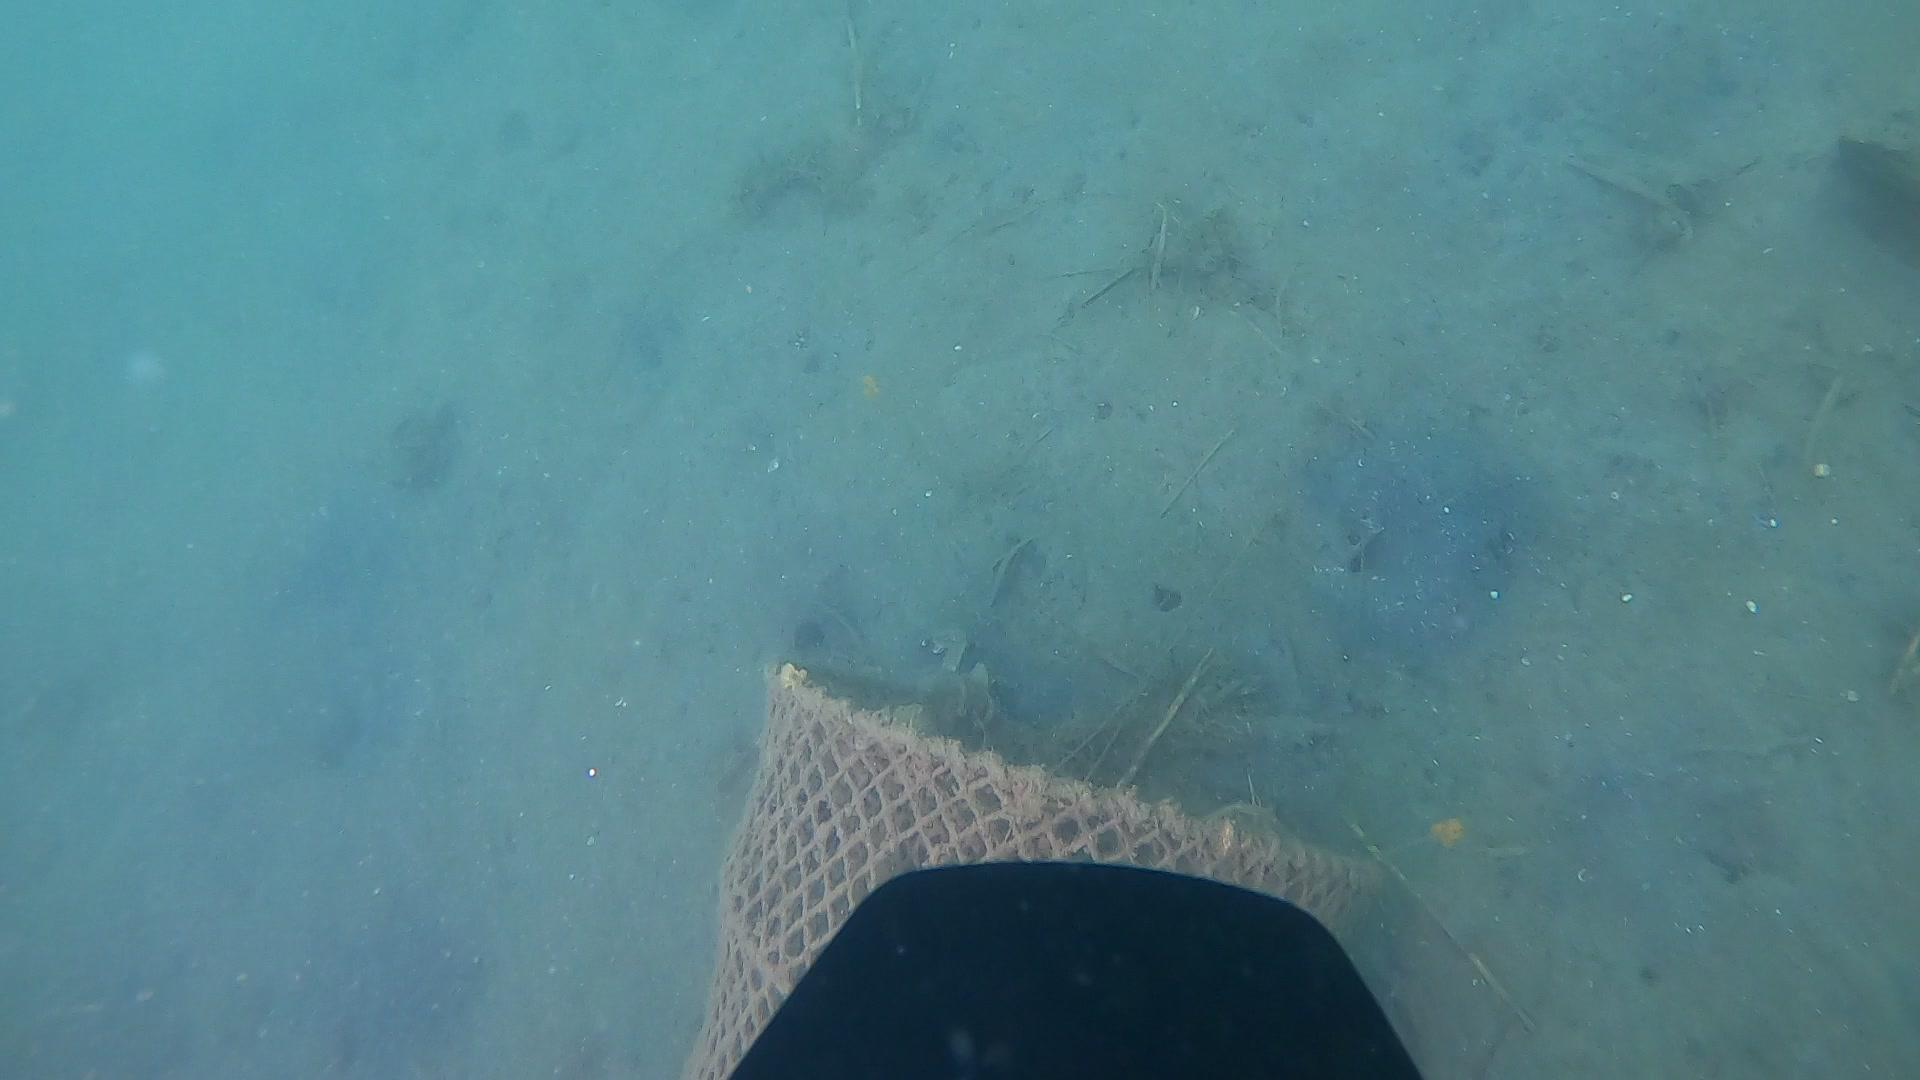spring fish trap: (676, 658, 1385, 1080)
